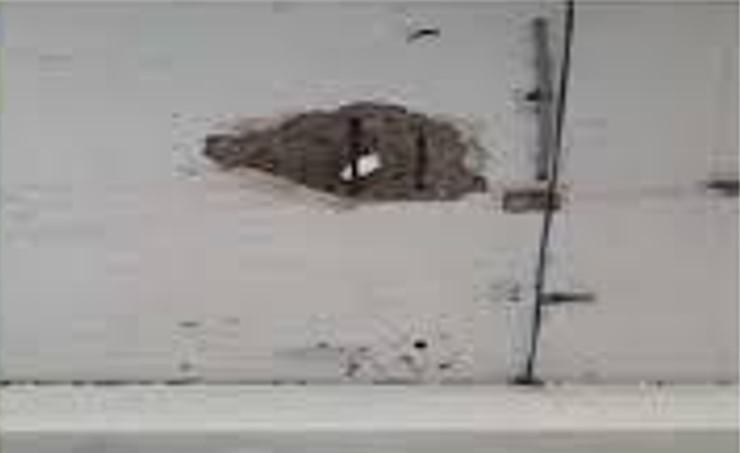Exposed reinforcement: (411, 133, 430, 193), (348, 116, 363, 183)
Spalling: (199, 100, 489, 206)
